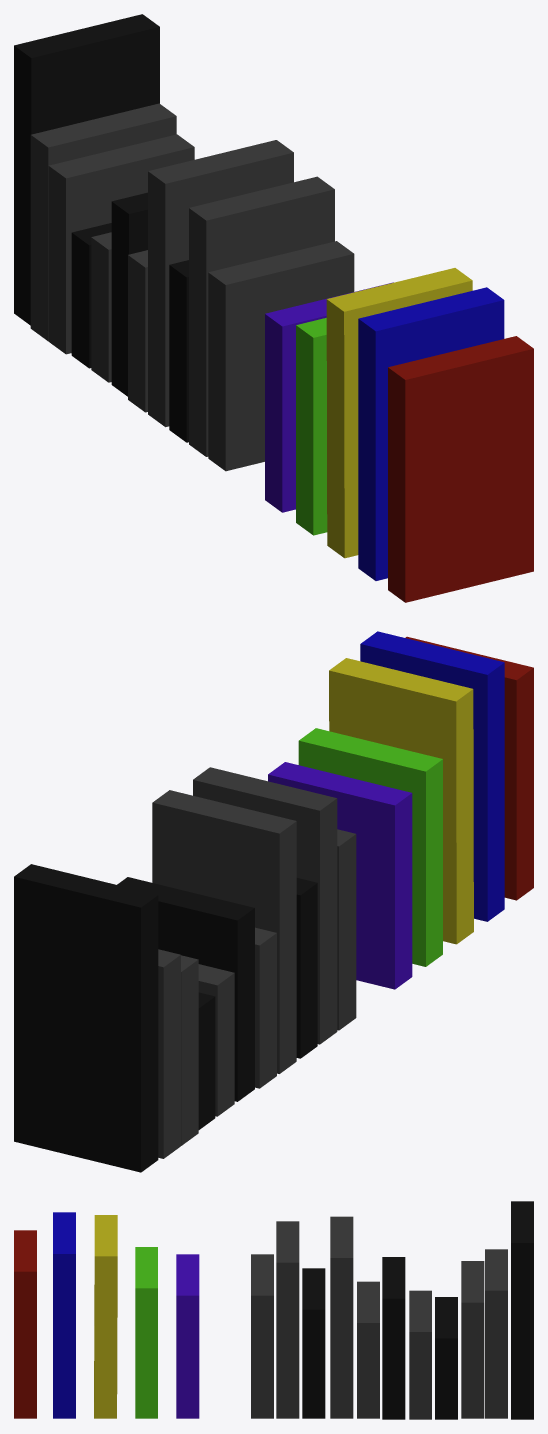
File: Books.fbx
3 views of the same model, one above another, from view 1: azimuth 30°, elevation 25°; view 2: azimuth 150°, elevation 25°; view 3: azimuth 270°, elevation 25° (orthographic). The views are drawn at different scales.
Parts seen in each view (by area): view 1: Book006, Book002, Book001, Book003, Book005, Book004; view 2: Book006, Book003, Book005, Book001, Book004, Book002; view 3: Book006, Book003, Book001, Book002, Book005, Book004.
Part boxes in pixels (x1,y1,x2,y2): Book006: (14, 14, 354, 471); Book002: (388, 336, 533, 602); Book001: (358, 287, 504, 580); Book003: (326, 268, 472, 558); Book005: (265, 282, 393, 512); Book004: (296, 318, 327, 535); Book006: (14, 767, 356, 1172); Book003: (329, 658, 473, 944); Book005: (268, 762, 412, 989); Book001: (360, 631, 504, 921); Book004: (298, 728, 442, 966); Book002: (405, 636, 533, 900); Book006: (251, 1201, 533, 1419); Book003: (94, 1215, 117, 1418); Book001: (53, 1212, 75, 1418); Book002: (14, 1230, 36, 1418); Book005: (176, 1254, 199, 1418); Book004: (135, 1247, 157, 1418).
Size of the model in its own units: 17.53 by 34.11 by 90.98.
